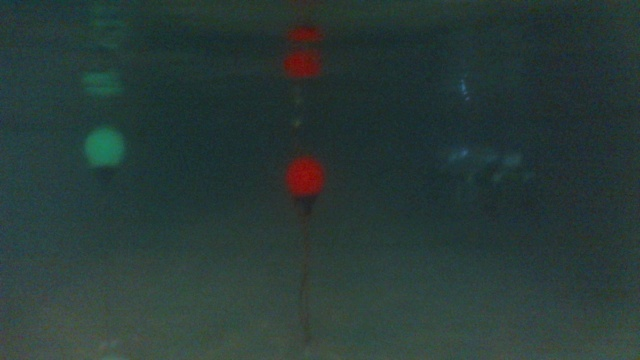buoy_green: (81, 121, 127, 184)
buoy_red: (282, 154, 325, 217)
